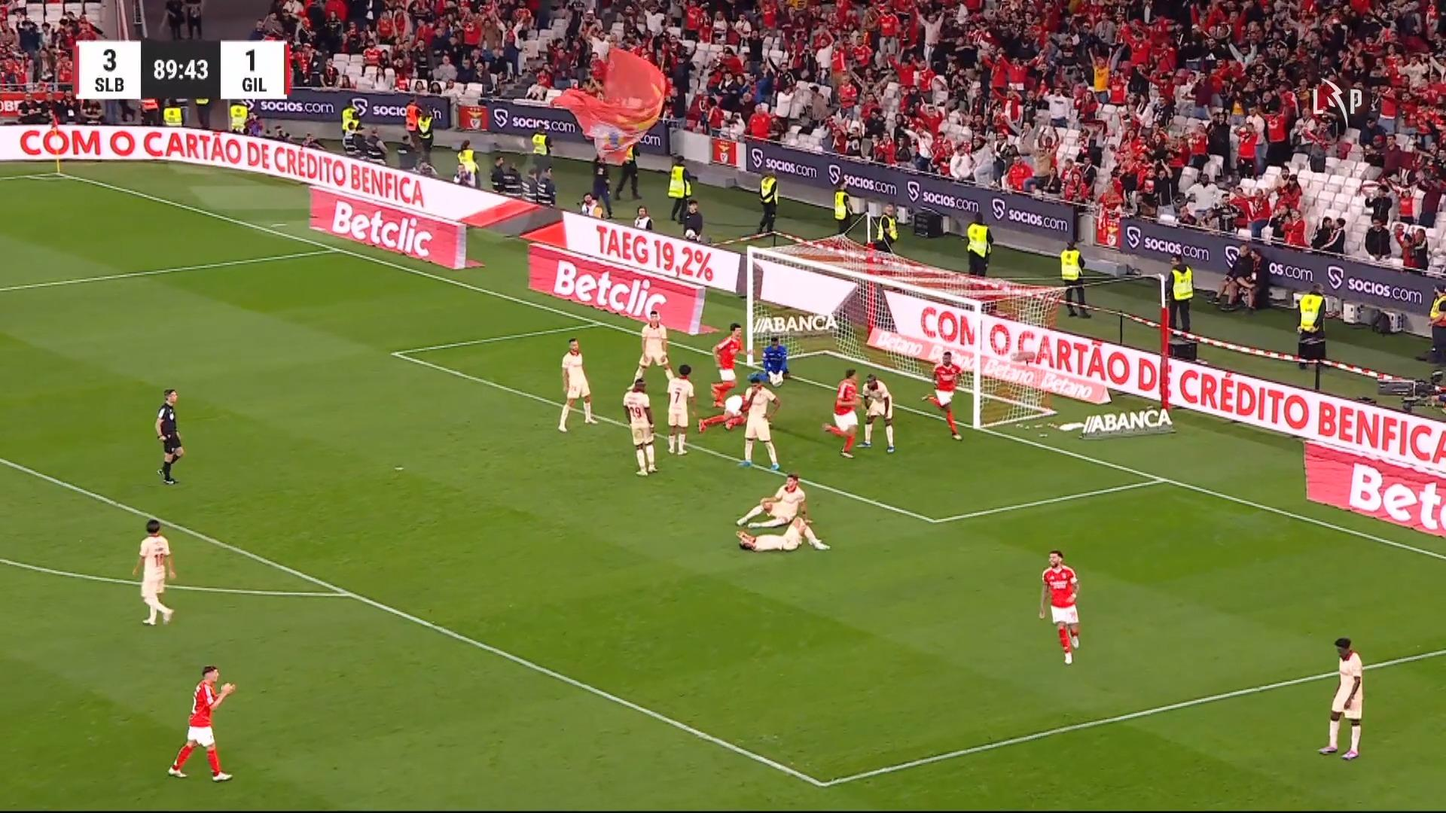goalkeeper: (761, 335, 789, 387)
player: (166, 664, 236, 781), (1317, 636, 1364, 760), (1038, 550, 1081, 665), (131, 519, 176, 626), (737, 371, 782, 472), (734, 472, 813, 527), (920, 349, 964, 440), (557, 336, 597, 432), (822, 367, 862, 458), (622, 379, 657, 477), (630, 309, 673, 386), (736, 518, 829, 552), (858, 373, 895, 453), (709, 322, 743, 409), (664, 363, 694, 455), (697, 393, 746, 434)
referee: (154, 388, 185, 485)
